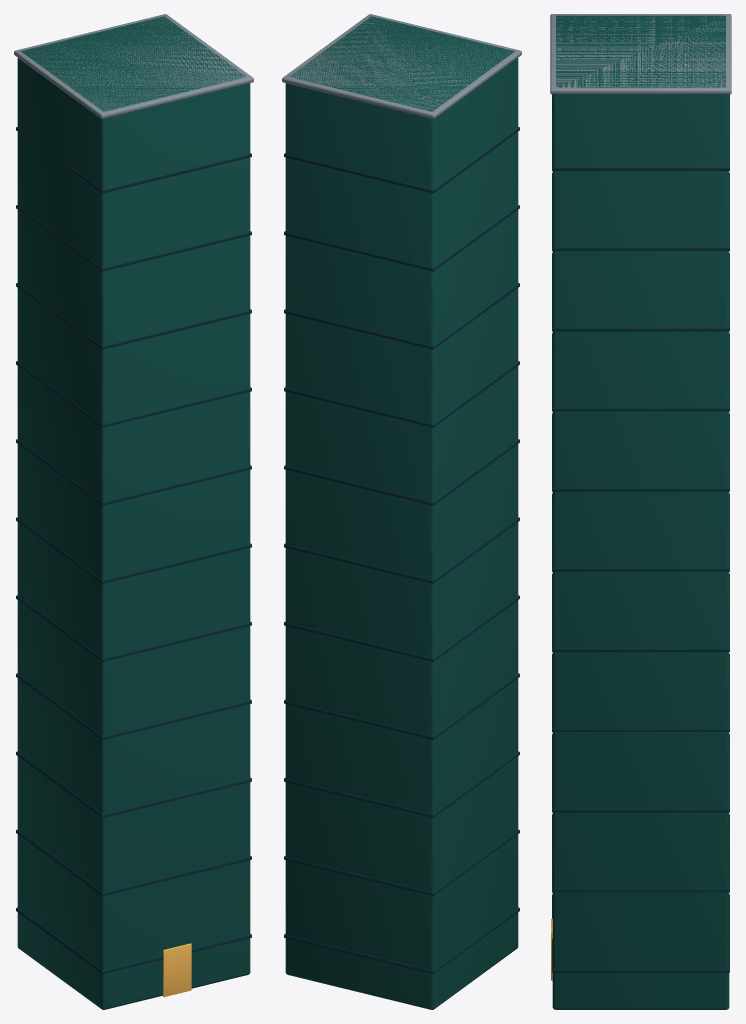
File: s02_near.glb
The picture shows the model from 3 angles, left to right: view 1: azimuth 30°, elevation 25°; view 2: azimuth 150°, elevation 25°; view 3: azimuth 270°, elevation 25°; orthographic projection. The views are drawn at different scales.
Visible parts, largest first — view 1: s02_near_Mass, s02_near_Roof, s02_near_Door, s02_near_Band_38, s02_near_Band_22, s02_near_Band_34, s02_near_Band_10, s02_near_Band_30, s02_near_Band_6, s02_near_Band_18, s02_near_Band_26, s02_near_Band_42 (+2 smaller); view 2: s02_near_Mass, s02_near_Roof, s02_near_Band_38, s02_near_Band_22, s02_near_Band_34, s02_near_Band_10, s02_near_Band_30, s02_near_Band_6, s02_near_Band_18, s02_near_Band_26, s02_near_Band_42, s02_near_Band_2 (+1 smaller); view 3: s02_near_Mass, s02_near_Roof, s02_near_Band_6, s02_near_Band_10, s02_near_Band_30, s02_near_Band_34, s02_near_Band_26, s02_near_Band_18, s02_near_Band_22, s02_near_Band_42, s02_near_Band_2, s02_near_Band_38 (+1 smaller).
Boxes of the visible parts, x1,y1,x2,y2 form: s02_near_Mass: (17,16,250,1009); s02_near_Roof: (14,14,253,118); s02_near_Door: (163,943,191,996); s02_near_Band_38: (16,205,251,271); s02_near_Band_22: (16,517,251,583); s02_near_Band_34: (16,283,251,349); s02_near_Band_10: (16,751,251,817); s02_near_Band_30: (16,361,251,427); s02_near_Band_6: (16,829,251,895); s02_near_Band_18: (16,595,251,661); s02_near_Band_26: (16,439,251,505); s02_near_Band_42: (16,127,251,193); s02_near_Mass: (285,16,518,1009); s02_near_Roof: (282,14,521,118); s02_near_Band_38: (284,205,519,271); s02_near_Band_22: (284,517,519,583); s02_near_Band_34: (284,283,519,349); s02_near_Band_10: (284,751,519,817); s02_near_Band_30: (284,361,519,427); s02_near_Band_6: (284,829,519,895); s02_near_Band_18: (284,595,519,661); s02_near_Band_26: (284,439,519,505); s02_near_Band_42: (284,127,519,193); s02_near_Band_2: (284,907,519,973); s02_near_Mass: (552,15,729,1009); s02_near_Roof: (550,14,731,94); s02_near_Band_6: (552,814,729,892); s02_near_Band_10: (552,734,729,812); s02_near_Band_30: (552,333,729,411); s02_near_Band_34: (552,253,729,331); s02_near_Band_26: (552,413,729,491); s02_near_Band_18: (552,574,729,651); s02_near_Band_22: (552,494,729,571); s02_near_Band_42: (552,94,729,170); s02_near_Band_2: (552,894,729,972); s02_near_Band_38: (552,173,729,250).
Bounding box in the file's own units: 8.2 × 46 × 8.2.
